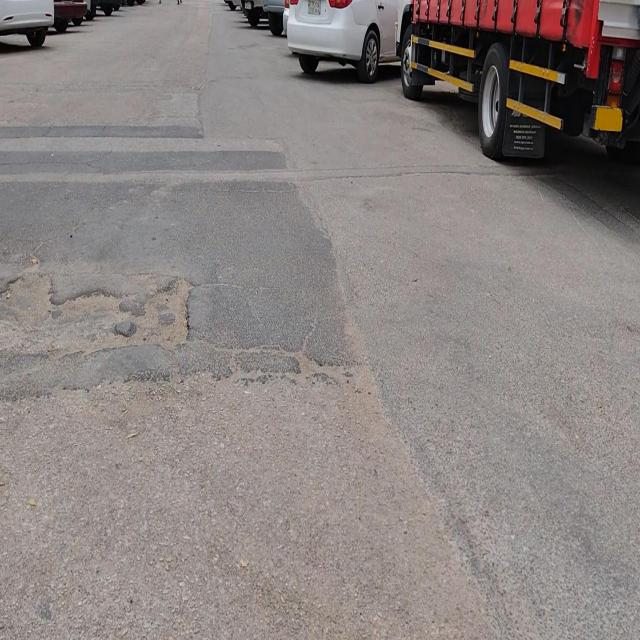Potholes: (114, 272, 197, 355), (45, 287, 119, 358)
